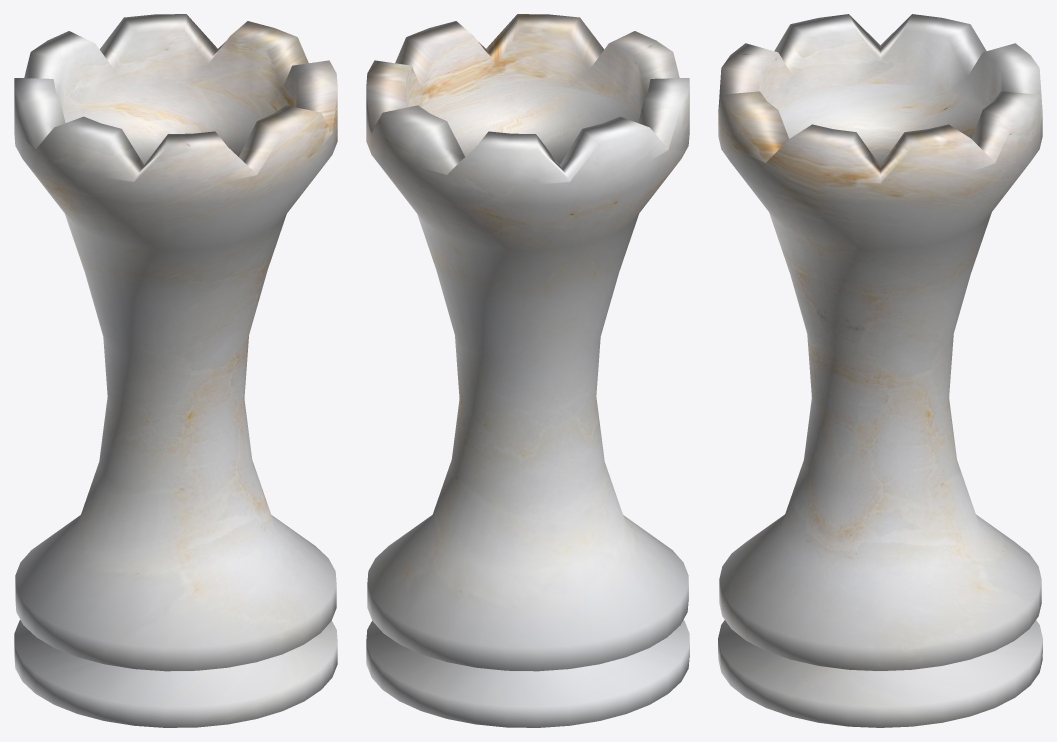
Rendered from rook.glb.
3 views of the same model, side by side, from view 1: azimuth 30°, elevation 25°; view 2: azimuth 150°, elevation 25°; view 3: azimuth 270°, elevation 25° (orthographic).
Parts seen in each view (by area): view 1: Cylinder; view 2: Cylinder; view 3: Cylinder.
Part boxes in pixels (x1,y1,x2,y2): Cylinder: (14, 14, 337, 727); Cylinder: (366, 14, 689, 727); Cylinder: (718, 14, 1042, 727).
Bounding box in the file's own units: 5.69 × 11.18 × 5.69.
1 material, 1 textured.
